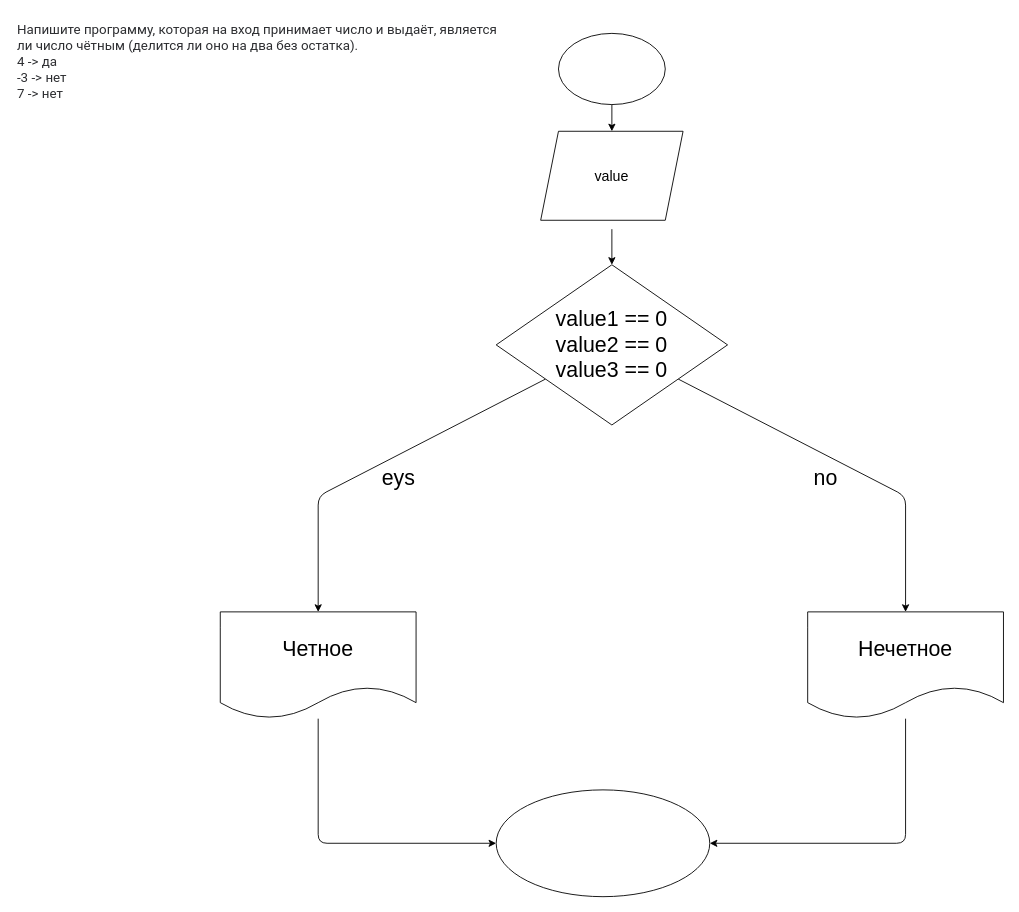
Image size: 1019x912. Some labels were removed from this diagram. The box of each missing label's shape, as (x1, y1, x2, y2) in pixels:
end: (495, 789, 710, 897)
start: (558, 32, 665, 105)
